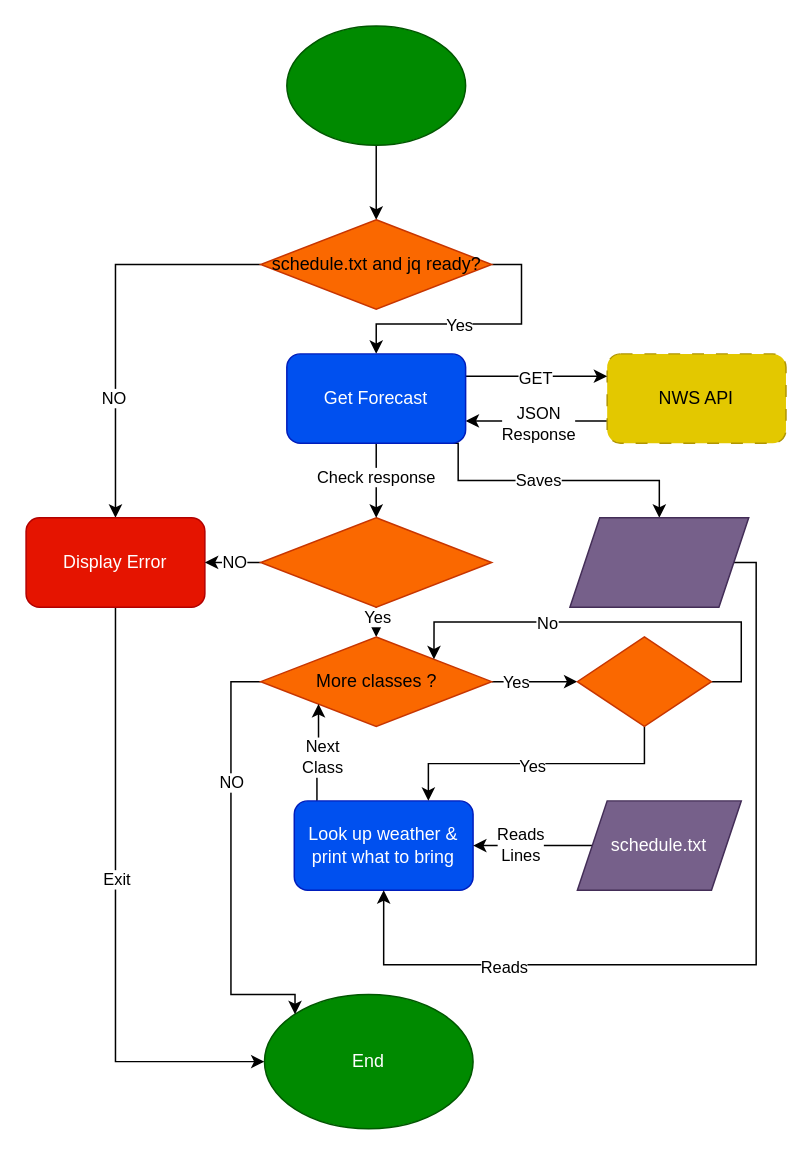
Some shapes in this 812 by 1155 pixel diagram are drawn without their labels. The centre of each missing label's shape, as x and y in pixels:
"forecast .json" goes at (658,561).
"Meets today ?" goes at (643,680).
"Request Success ?" goes at (375,561).
"Start" goes at (375,85).
